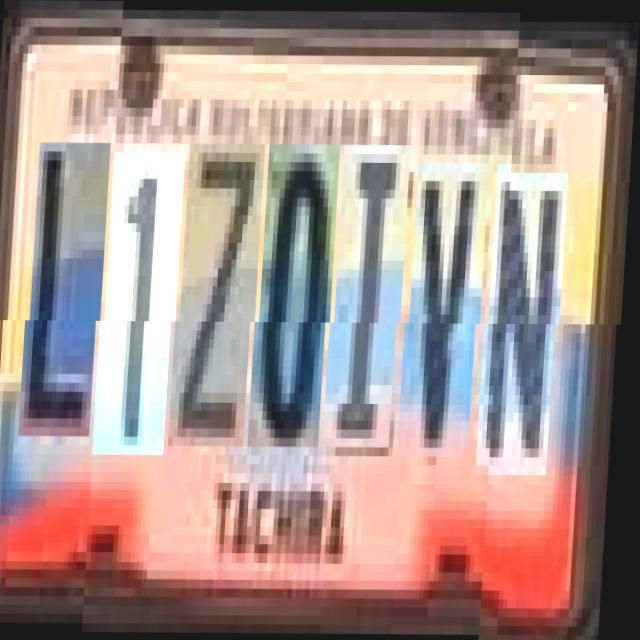1: (102, 152, 188, 454)
I: (332, 144, 412, 446)
L: (28, 152, 112, 446)
N: (486, 163, 571, 465)
O: (258, 144, 342, 446)
V: (407, 162, 491, 456)
Z: (178, 144, 267, 446)
